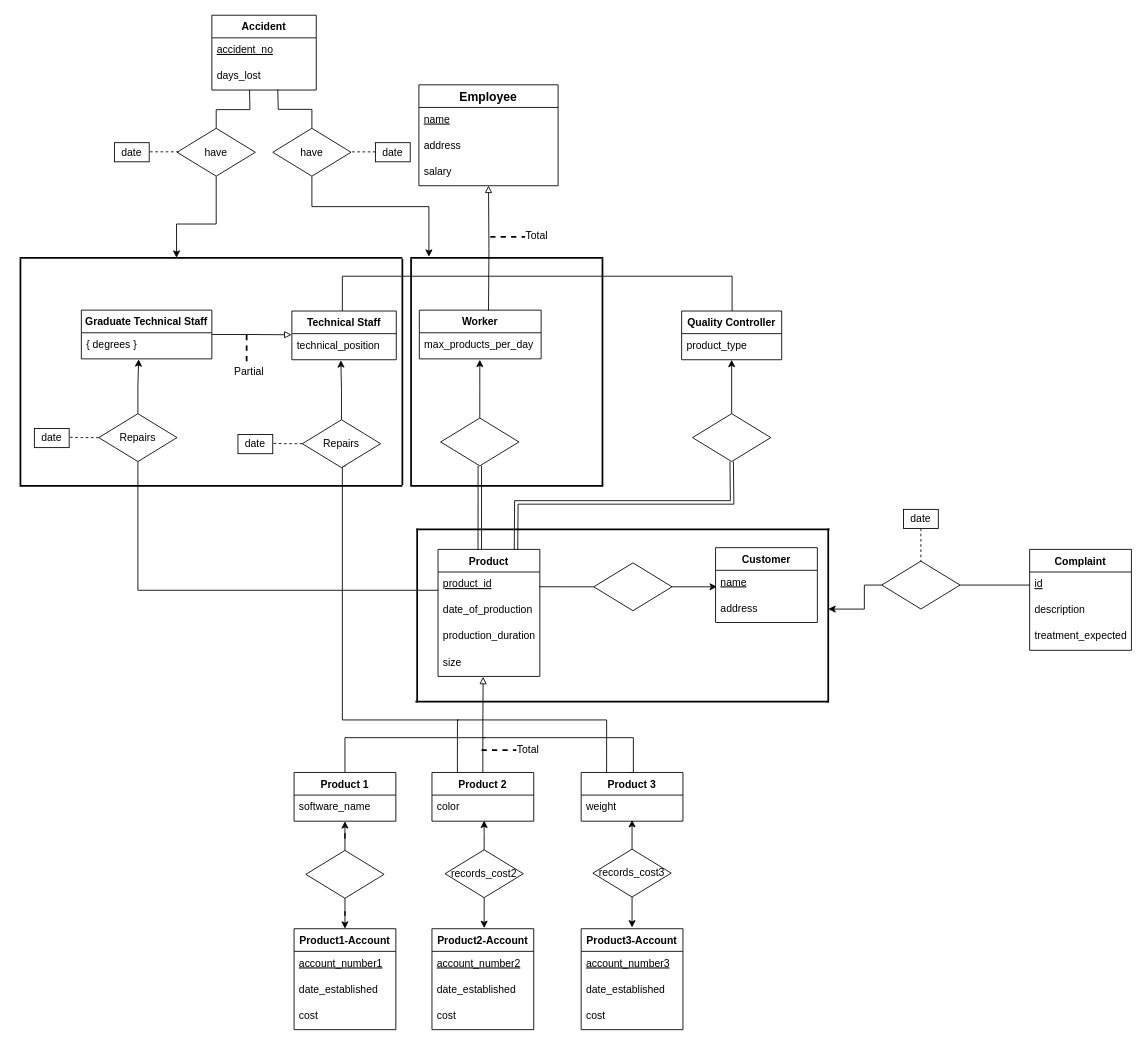
This 1147x1047 diagram has some shape labels left out. Each missing label, with the centre of its shape:
"files" belongs at pixel 920 584.
"makes" belongs at pixel 479 441.
"purchases" belongs at pixel 632 586.
"records_cost1" belongs at pixel 344 874.
"tests" belongs at pixel 731 437.
